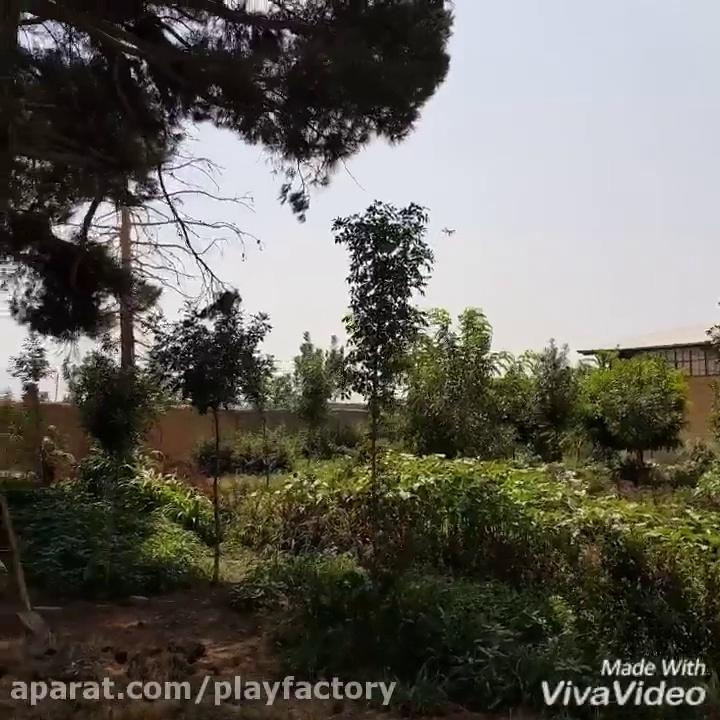drone: (439, 222, 457, 236)
